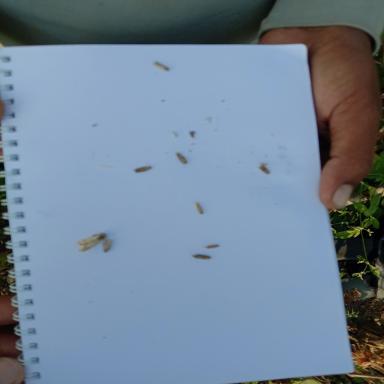pbw: (132, 163, 154, 175), (100, 238, 115, 254), (175, 151, 190, 165), (152, 61, 171, 72), (190, 252, 213, 261), (194, 200, 206, 214)
